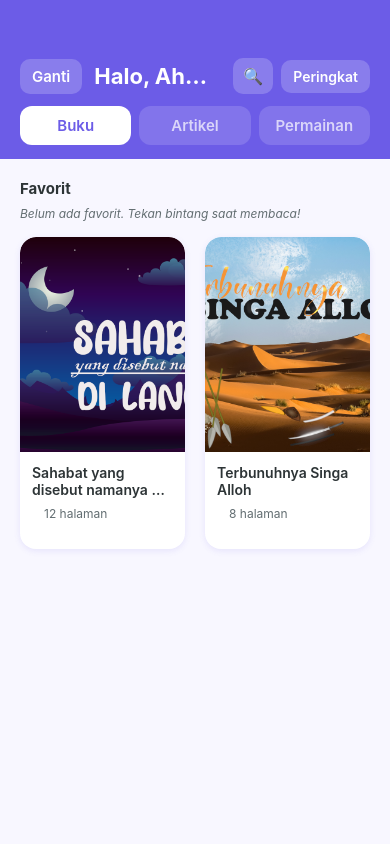
Test case: Anak melihat perpustakaan › pindah ke tab Artikel → menampilkan daftar artikel
The width and height of the screenshot is (390, 844).
What coordinates should you click on to do the following:
click the text "Artikel"
I would click on:
 (195, 126)
Its box is top-left (171, 116), bottom-right (219, 135).
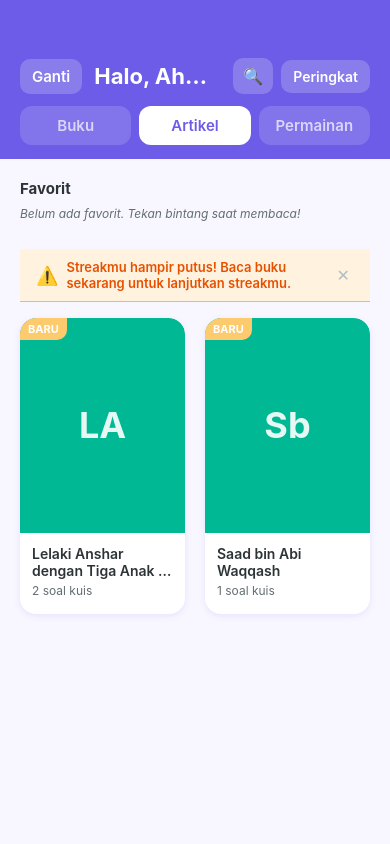
Now the text "Lelaki Anshar dengan Tiga Anak Panah" is shown, box top-left (32, 544), bottom-right (158, 596)
Now the text "Saad bin Abi Waqqash" is shown, box top-left (217, 544), bottom-right (305, 578)
Now the text "2 soal kuis" is shown, box top-left (32, 582), bottom-right (92, 598)
